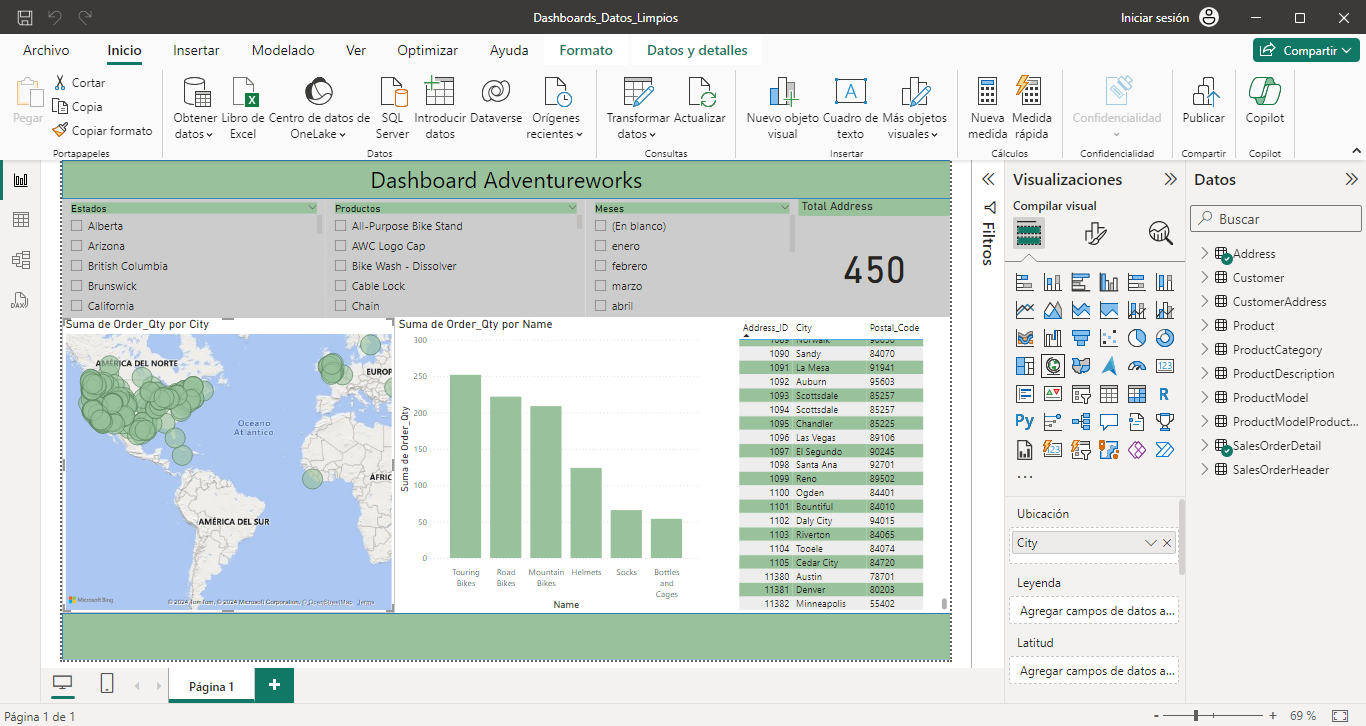

This screenshot's page, from the dashboard's own definition file:
{"tool":"powerbi","page":{"name":"Página 1","canvas":[1280,720],"ordinal":0},"visuals":[{"type":"map","fields":{"Category":["Address.City"],"Size":["Sum(SalesOrderDetail.Order_Qty)"]},"box":[0,225.7,480,427.1],"z":0},{"type":"clusteredColumnChart","fields":{"Category":["ProductCategory.Name"],"Y":["Sum(SalesOrderDetail.Order_Qty)"]},"box":[480,225.7,442.9,427.1],"z":1000},{"type":"card","fields":{"Values":["CountNonNull(Customer.Customer_ID)"]},"box":[1097.1,225.7,182.9,150],"z":2000},{"type":"slicer","fields":{"Values":["Product.Name"]},"box":[380,55.7,374.3,170],"z":3000},{"type":"card","title":"Total Address","fields":{"Values":["CountNonNull(Address.Address_ID)"]},"box":[1060,55.7,220,170],"z":4000},{"type":"tableEx","fields":{"Values":["Address.Address_ID","Address.City","Address.Postal_Code"]},"box":[968.6,225.7,311.4,427.1],"z":5000},{"type":"shape","box":[0,0,1280,55.7],"z":6000},{"type":"shape","box":[0,652.9,1280,67.1],"z":7000},{"type":"slicer","fields":{"Values":["Address.State_Province"]},"box":[0,55.7,380,170],"z":8000},{"type":"slicer","fields":{"Values":["SalesOrderHeader.Due_Date.Variación.Jerarquía de fechas.Mes"]},"box":[754.3,55.7,305.7,170],"z":9000}]}

Visuals, with their boxes on the page's 1280x720 design canvas (x1, y1, x2, y2). These are canvas units, not pixel positions in the 1366x726 screenshot, which may show the page scaled, cropped or inside an application window:
map - Address.City x Sum(SalesOrderDetail.Order_Qty): bbox=(0, 226, 480, 653)
clusteredColumnChart - ProductCategory.Name x Sum(SalesOrderDetail.Order_Qty): bbox=(480, 226, 923, 653)
card - CountNonNull(Customer.Customer_ID): bbox=(1097, 226, 1280, 376)
slicer - Product.Name: bbox=(380, 56, 754, 226)
"Total Address" card: bbox=(1060, 56, 1280, 226)
tableEx - Address.Address_ID x Address.City: bbox=(969, 226, 1280, 653)
shape: bbox=(0, 0, 1280, 56)
shape: bbox=(0, 653, 1280, 720)
slicer - Address.State_Province: bbox=(0, 56, 380, 226)
slicer - SalesOrderHeader.Due_Date.Variación.Jerarquía de fechas.Mes: bbox=(754, 56, 1060, 226)
